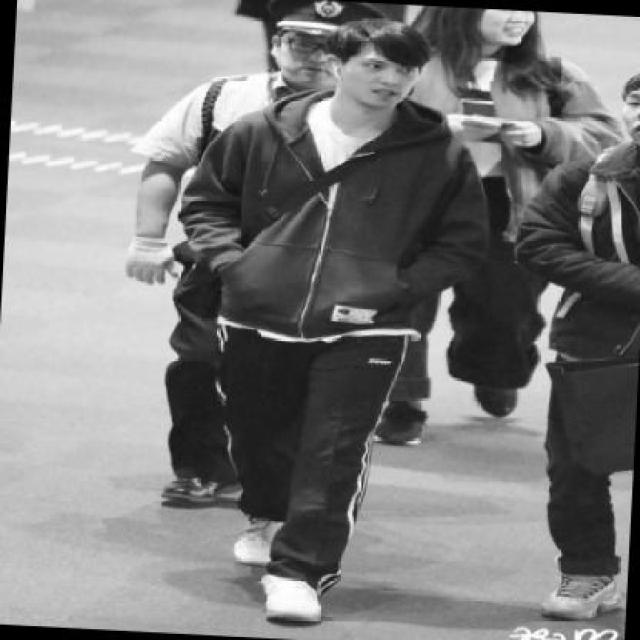earphone: (329, 52, 348, 88)
